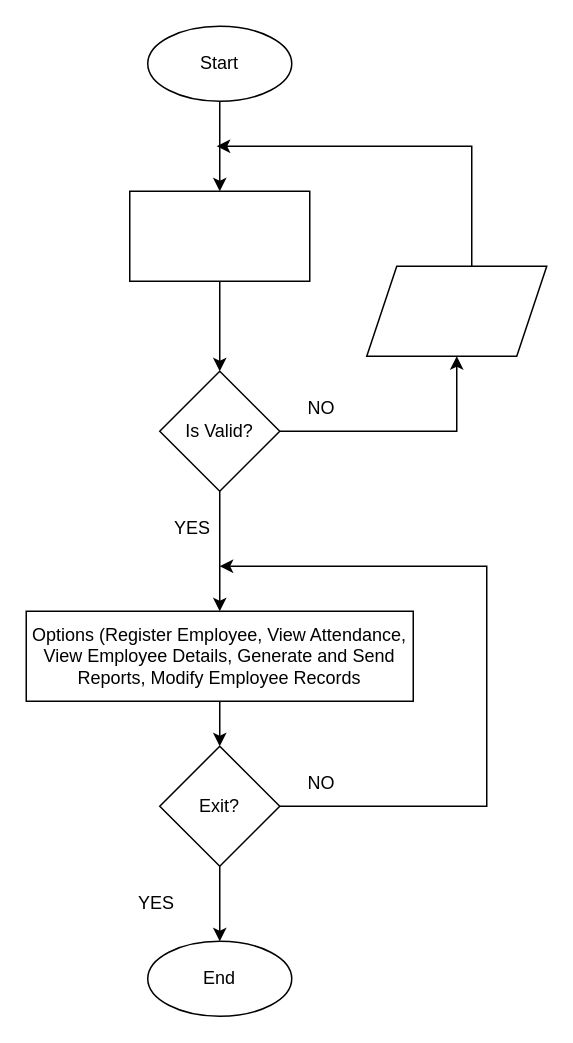
This 573x1043 diagram has some shape labels left out. The centre of each missing label's shape, as x and y in pixels:
Display incorrect credentials: pixel 456 310
Login: pixel 219 235
